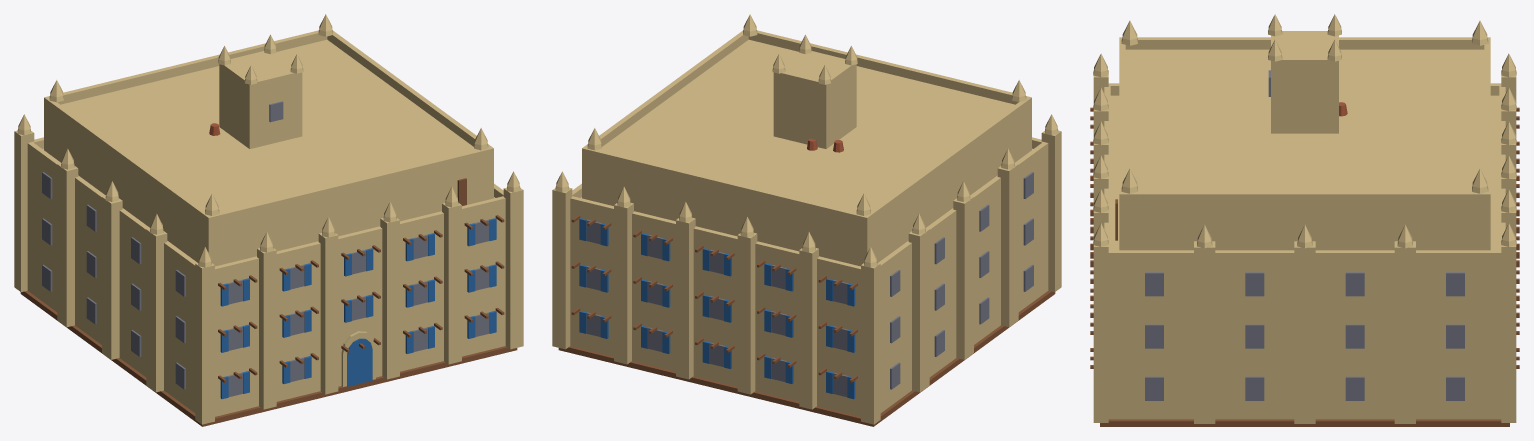
The model's file is house-2x2-4f-banco-a.glb.
3 renders of one model, left to right at view 1: azimuth 30°, elevation 25°; view 2: azimuth 150°, elevation 25°; view 3: azimuth 270°, elevation 25°, orthographic. The views are drawn at different scales.
Parts seen in each view (by area): view 1: house-2x2-4f-banco-a; view 2: house-2x2-4f-banco-a; view 3: house-2x2-4f-banco-a.
Boxes of the visible parts, left/top/right/bottom form: house-2x2-4f-banco-a: left=14, top=14, right=523, bottom=426; house-2x2-4f-banco-a: left=552, top=14, right=1061, bottom=426; house-2x2-4f-banco-a: left=1090, top=14, right=1519, bottom=426.
Bounding box in the file's own units: 1.99 × 1.6 × 2.01.
1 material, 1 textured.
